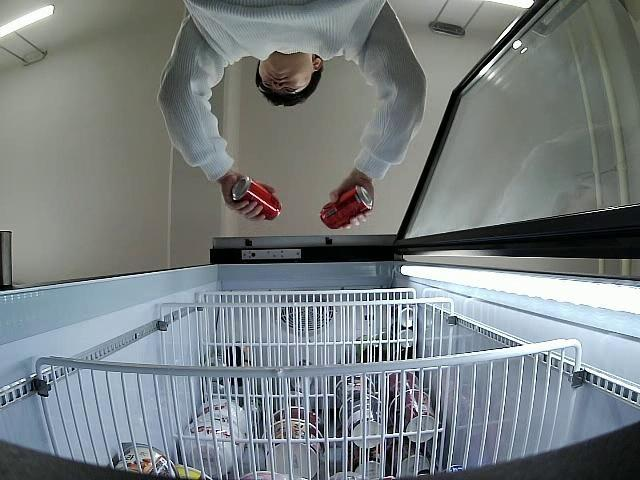11_cocaColaZero: (322, 184, 372, 230), (232, 178, 283, 222)
